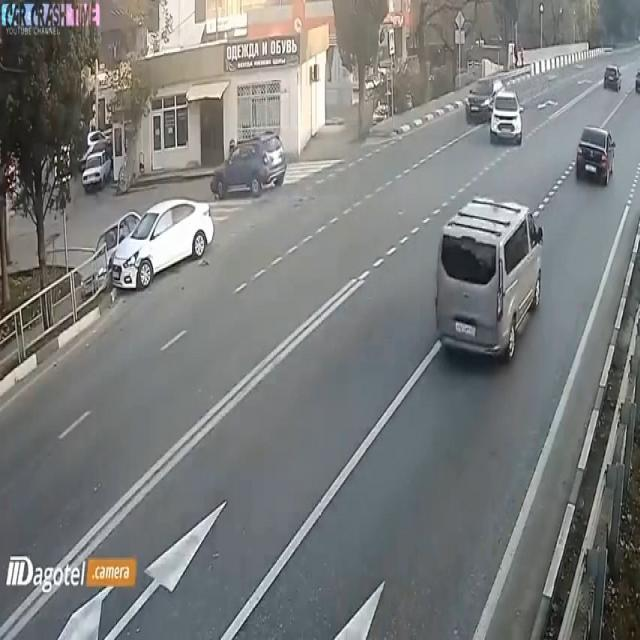Accident: (88, 202, 216, 316)
